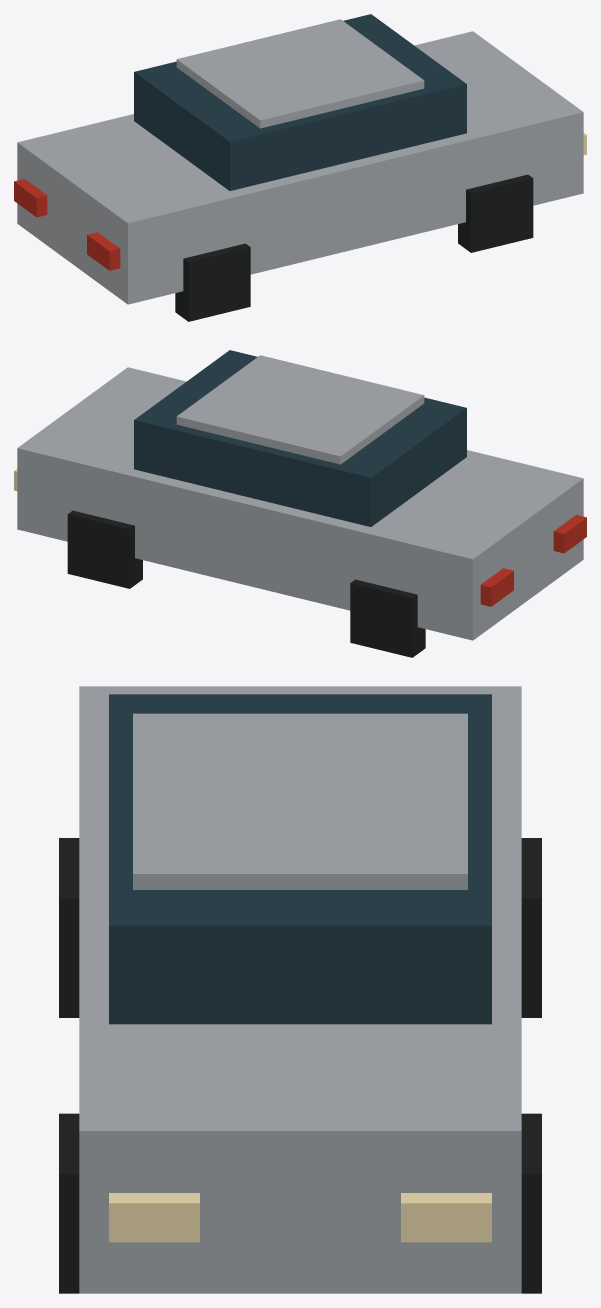
File: traffic-car-0.glb
3 views of the same model, one above another, from view 1: azimuth 30°, elevation 25°; view 2: azimuth 150°, elevation 25°; view 3: azimuth 270°, elevation 25° (orthographic). The views are drawn at different scales.
Size of the model in its own units: 4.61 by 1.53 by 2.02.
